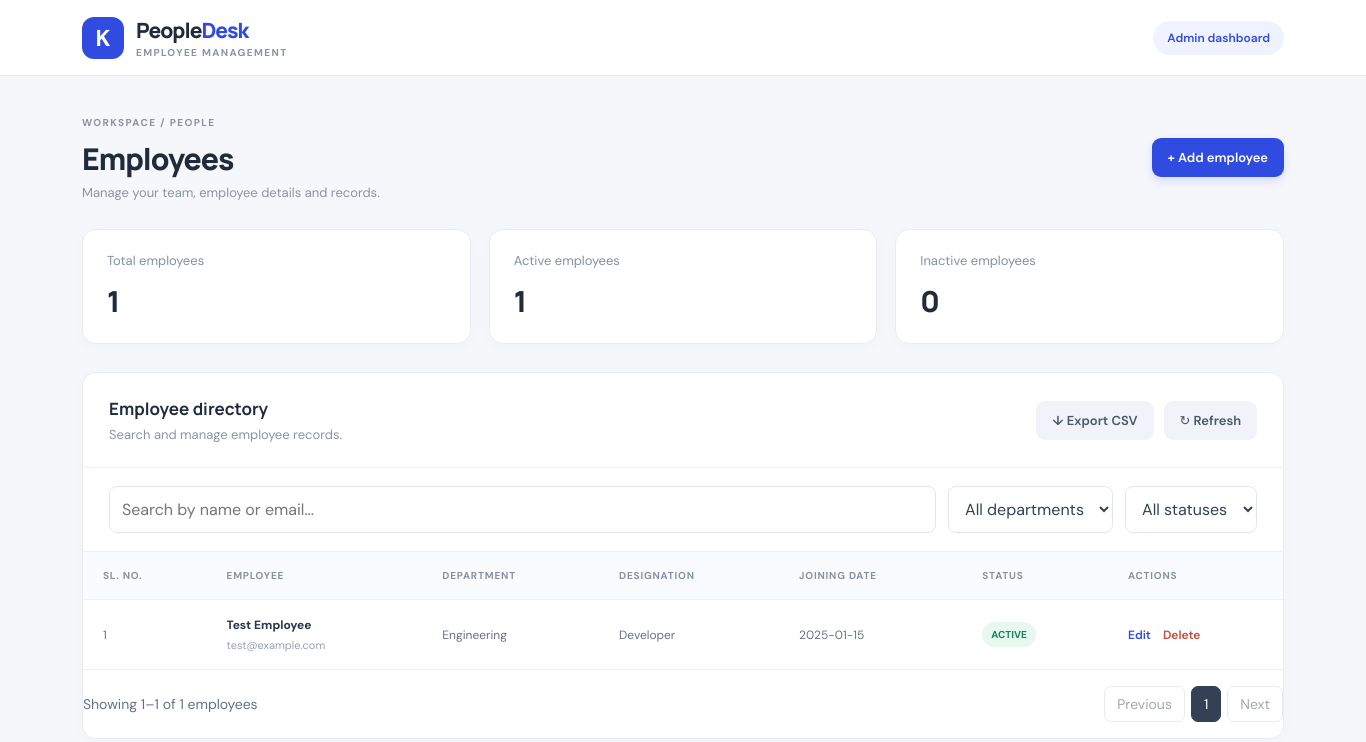
Scenario: Employee Management Dashboard › filters employees by search text
The image size is (1366, 742).
Expected: the button "Test Employee" is shown, [227,617,311,633]
In the field named "Search employees": (523, 510) [109,486,936,533], type "Nobody"
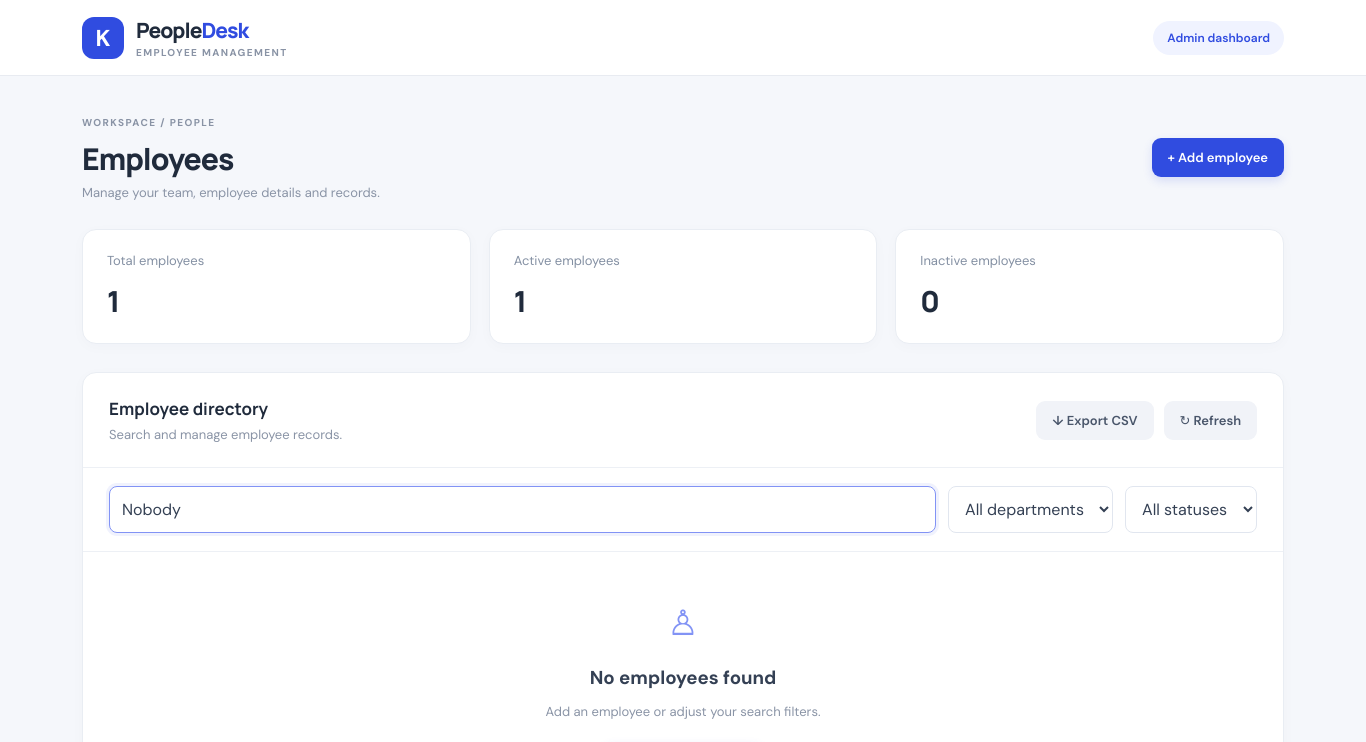
Now the button "Test Employee" is gone
